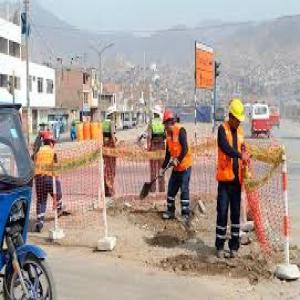red: (163, 109, 176, 132), (42, 132, 56, 153)
yellow: (228, 96, 244, 132)
